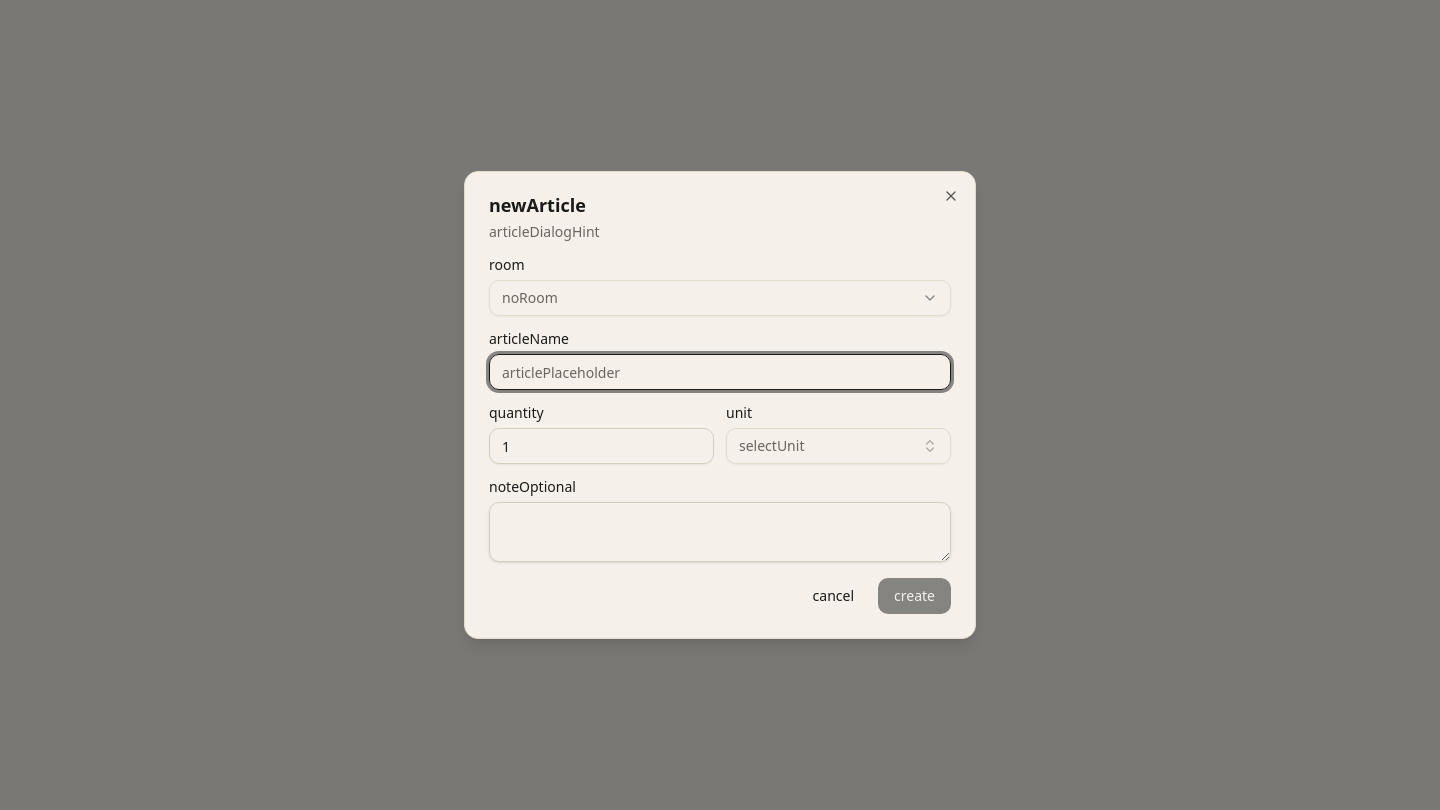
Test: ArticleFormDialog quantity › refuses more decimals than the quantity is stored with
Type "Plinthe" into the field labelled "articleName". click: {"x": 720, "y": 372}
box: [489,354,951,390]
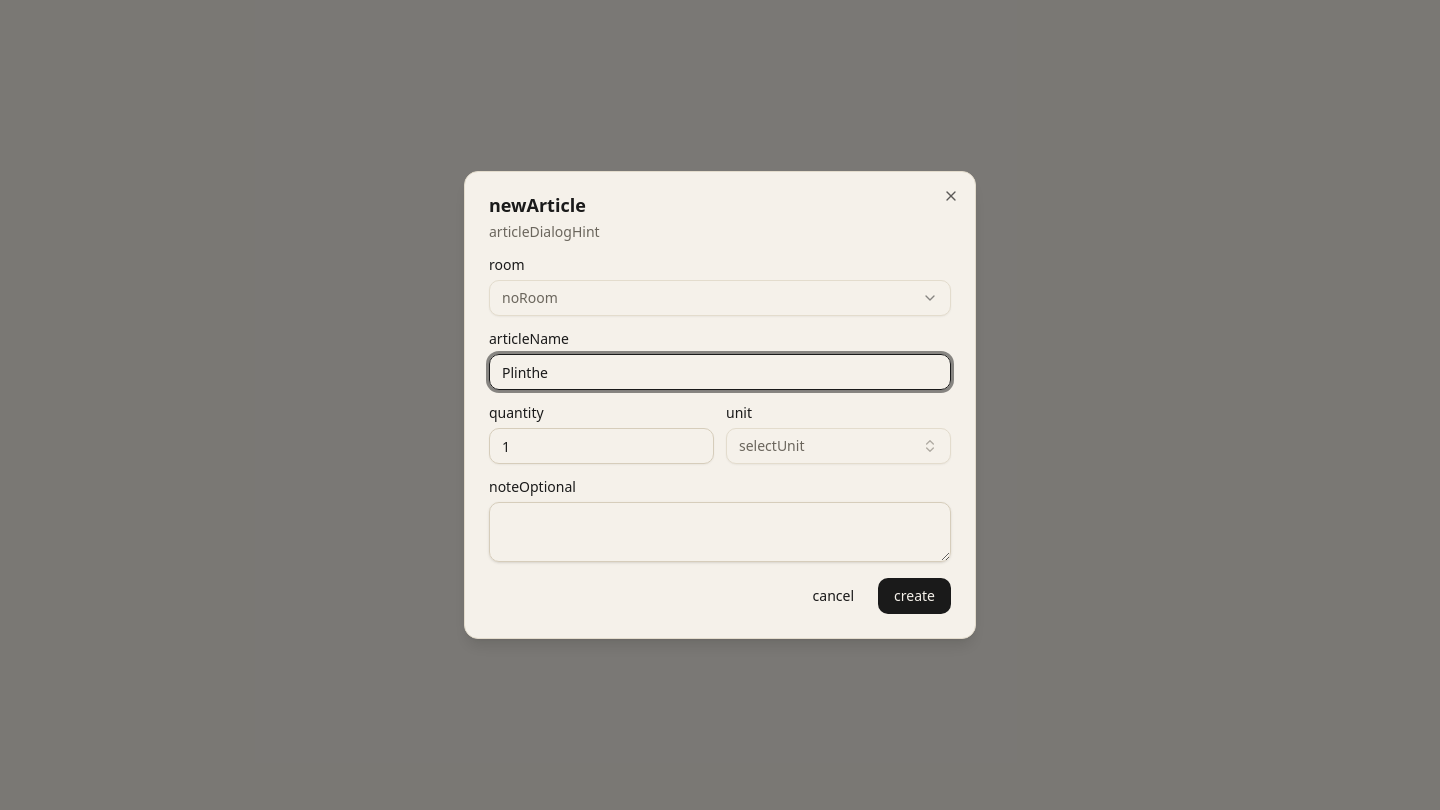
Replace the text in the field labelled "quantity" with "1,2345". click: {"x": 602, "y": 446}
box: [489,428,714,464]
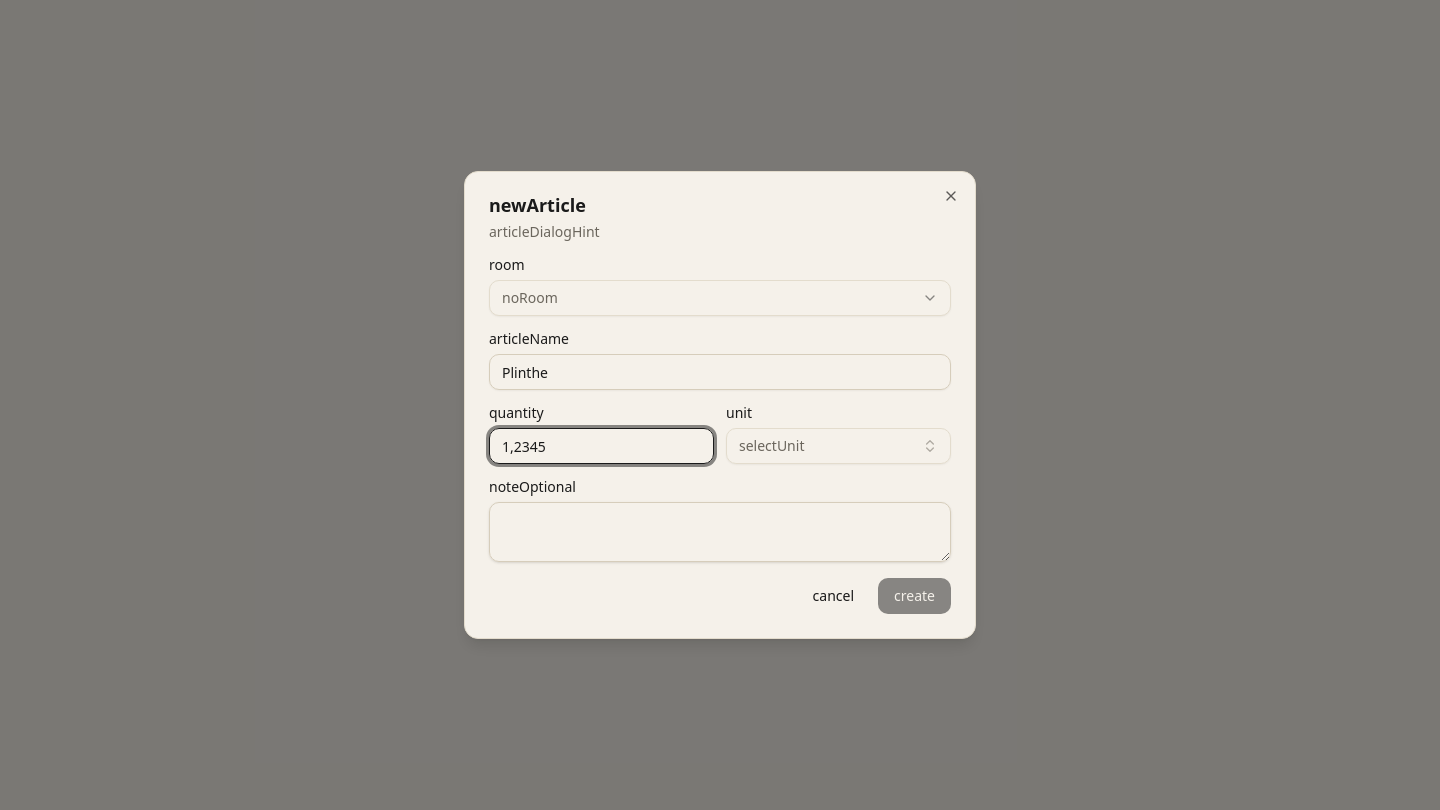
Press Tab
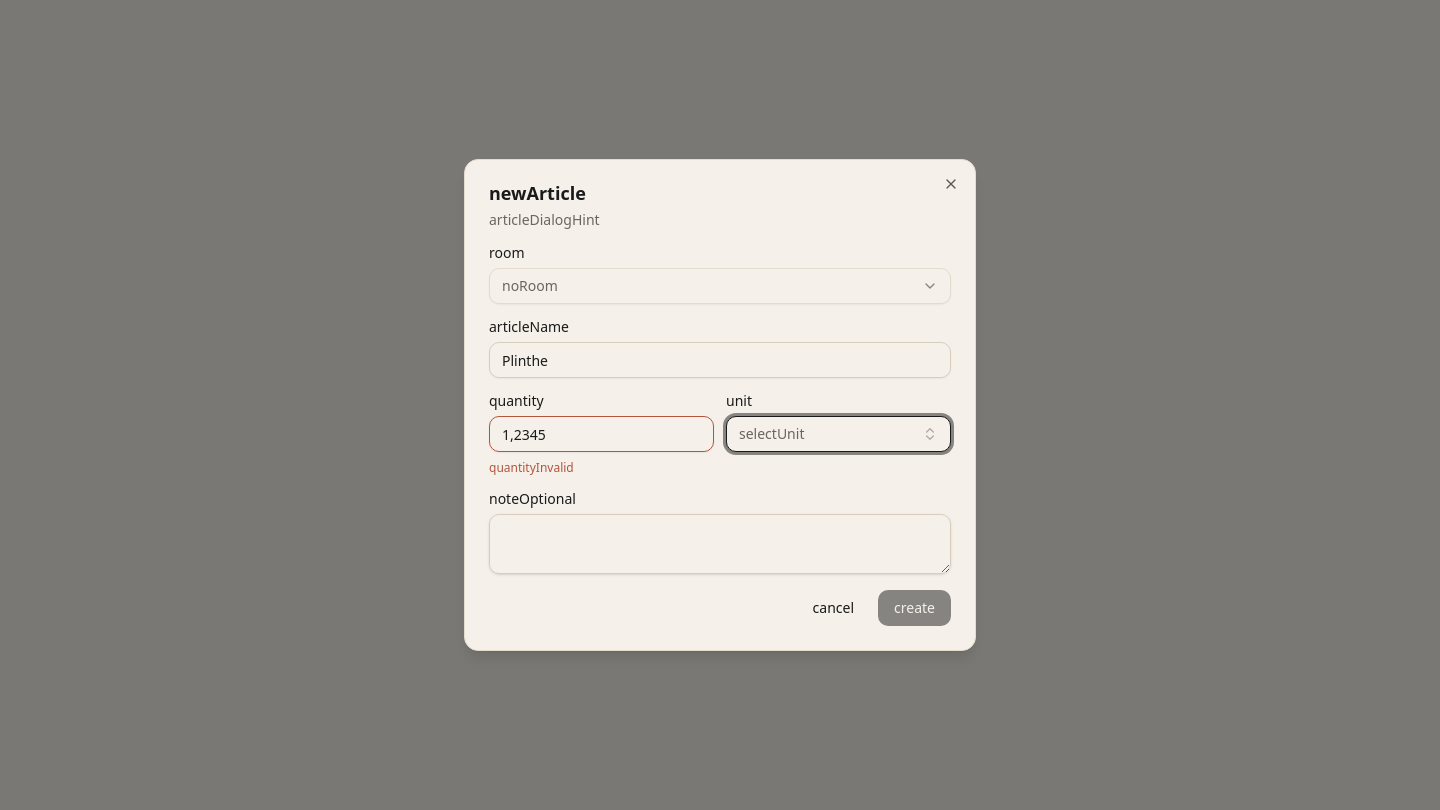
Check: the text "quantityInvalid" is shown, box [489,459,574,476]
